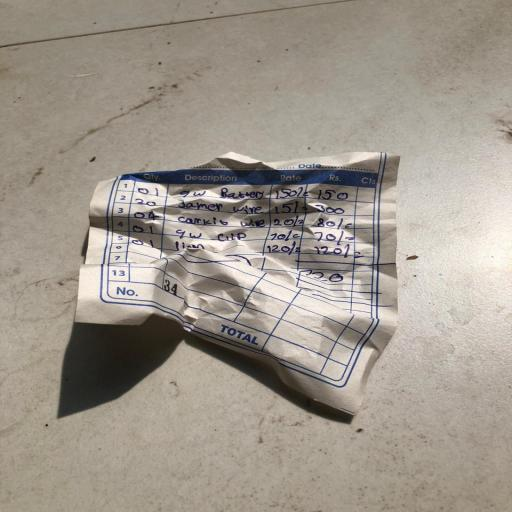waste: (61, 138, 442, 436)
